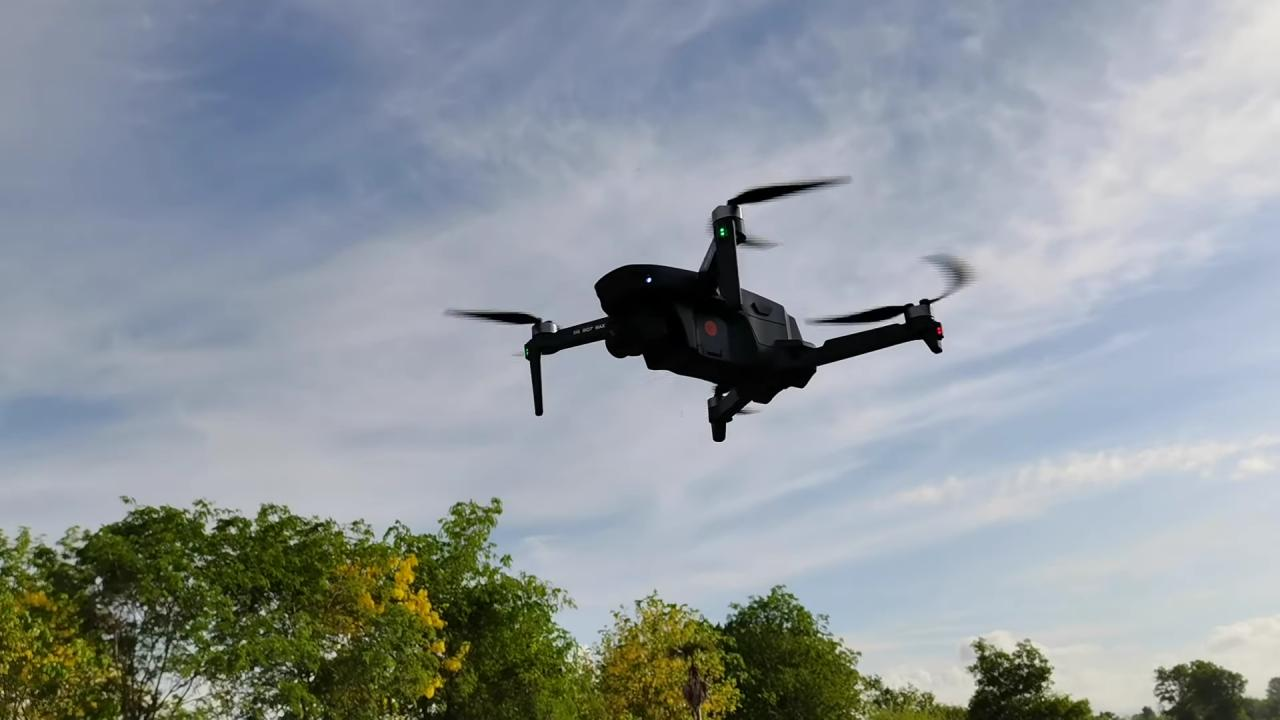Drone: (433, 159, 986, 454)
